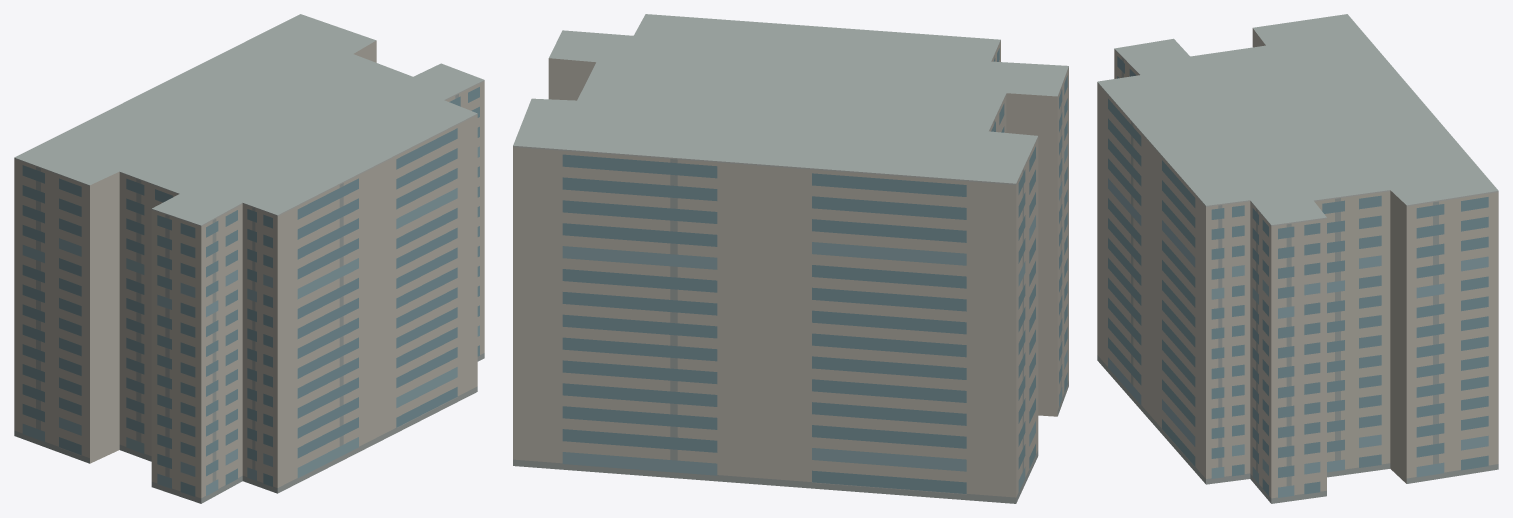
The model's file is survey-upis-32761633.glb.
3 renders of one model, left to right at view 1: azimuth 30°, elevation 25°; view 2: azimuth 150°, elevation 25°; view 3: azimuth 270°, elevation 25°, orthographic. The views are drawn at different scales.
Parts seen in each view (by area): view 1: survey-upis-32761633.tmp; view 2: survey-upis-32761633.tmp; view 3: survey-upis-32761633.tmp.
Boxes of the visible parts, x1=… form: survey-upis-32761633.tmp: x1=14, y1=14, x2=484, y2=503; survey-upis-32761633.tmp: x1=513, y1=14, x2=1068, y2=503; survey-upis-32761633.tmp: x1=1097, y1=14, x2=1498, y2=503.
Size of the model in its own units: 94.28 by 58 by 75.72.
